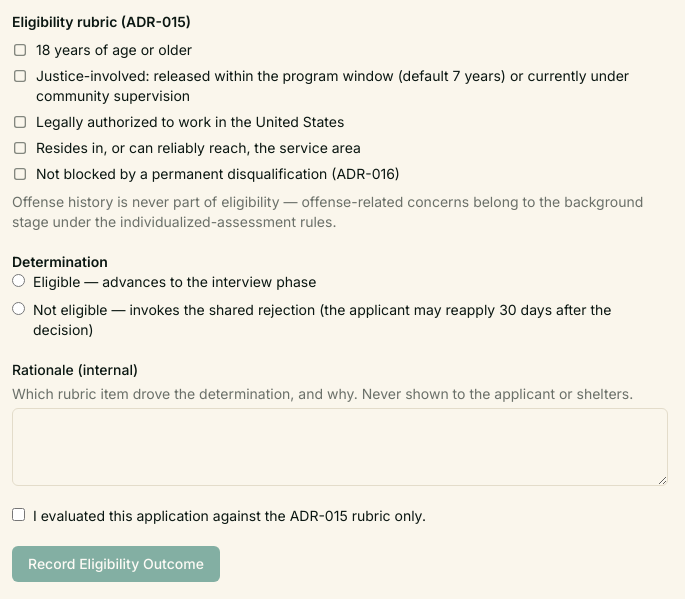
Test: EligibilityPanel (Story 2.8, ADR-015) › requires outcome, rationale, and the rubric confirmation before recording
Check: the button "Record Eligibility Outcome" is disabled, box [12,546,220,582]
Click the radio button labelled "Eligible — advances to the interview phase": coordinates (18, 280) [12,274,25,287]
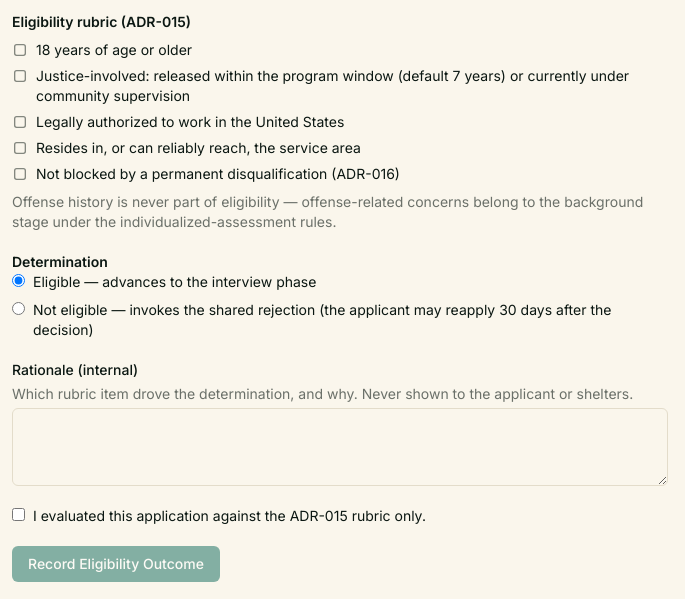
Check: the button "Record Eligibility Outcome" is disabled, box [12,546,220,582]
Click the checkbox labelled "ADR-015 rubric only": coordinates (18, 514) [12,508,25,521]
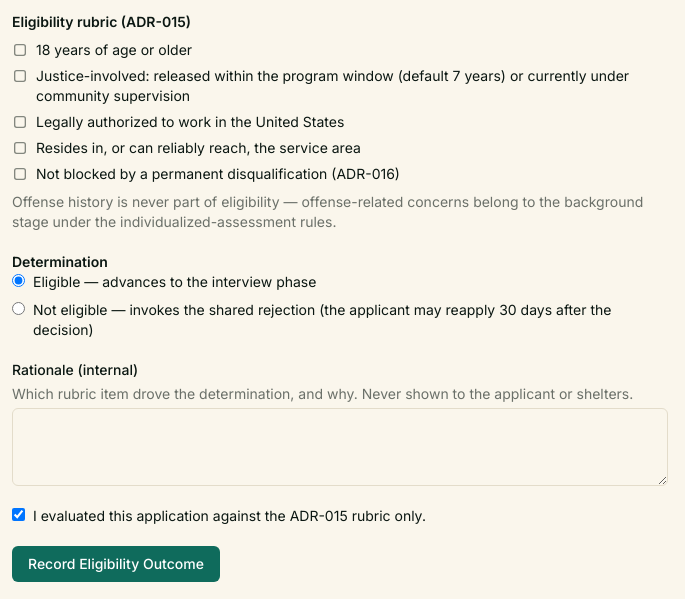
Check: the button "Record Eligibility Outcome" is enabled, box [12,546,220,582]
